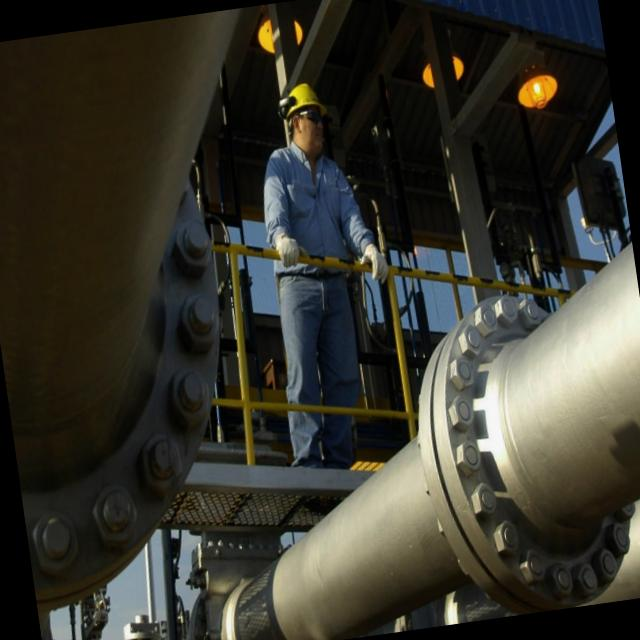gas: (240, 245, 640, 640), (0, 18, 243, 469)
